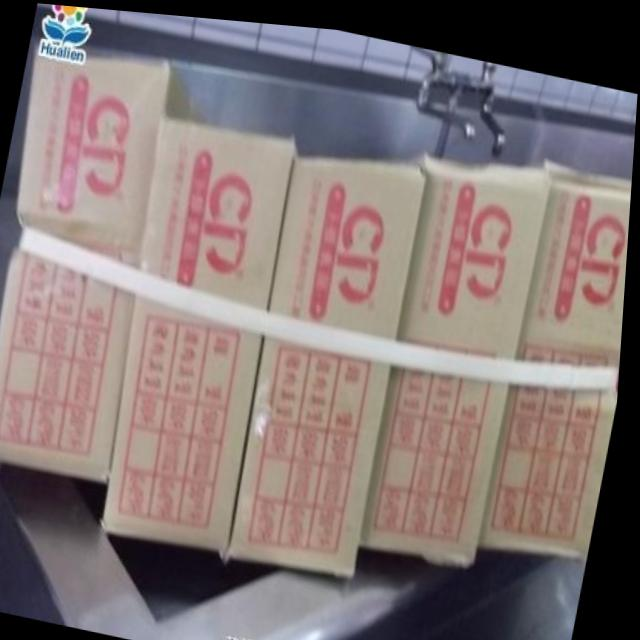box: (108, 290, 268, 547), (232, 329, 395, 575), (20, 46, 213, 241), (0, 246, 136, 481), (400, 143, 553, 349), (140, 114, 297, 306), (272, 146, 430, 334), (363, 359, 512, 555), (518, 150, 634, 352), (485, 376, 622, 547)
